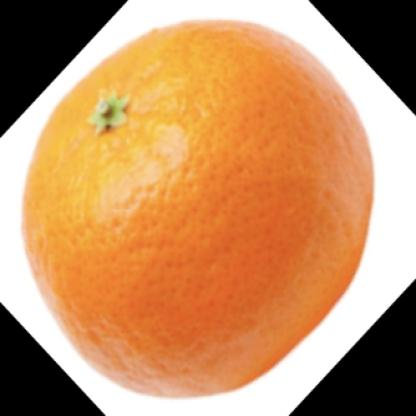fresh: (25, 20, 377, 384)
